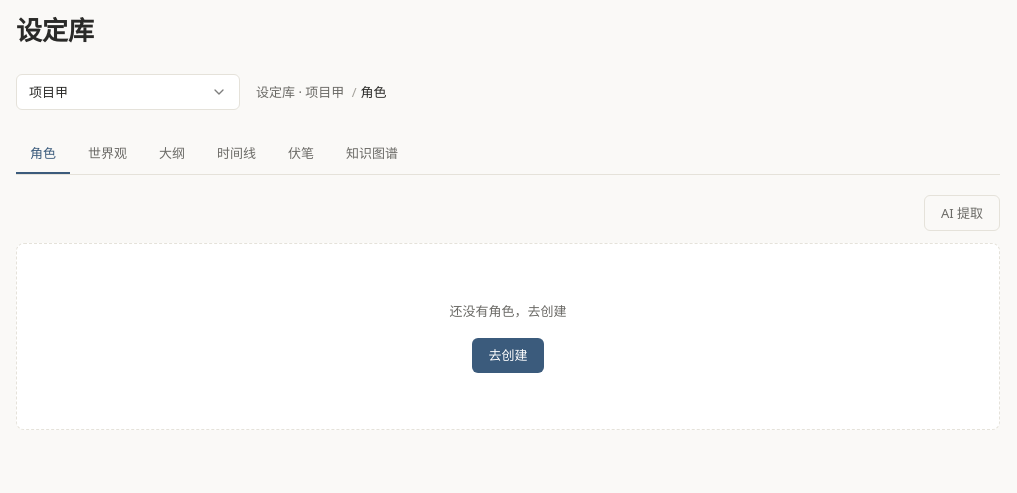
设定库页 — F43 P2 地图工作台（世界观 tab，spec §5.8-5.13/§9.5 M1-M13） › M1 世界观 tab 渲染地图工作台：挂地图的节点渲染 world-map-badge-w1；无地图节点 w1a 无徽标
Click the tab "世界观".
click(108, 154)  # box [74,134,141,174]
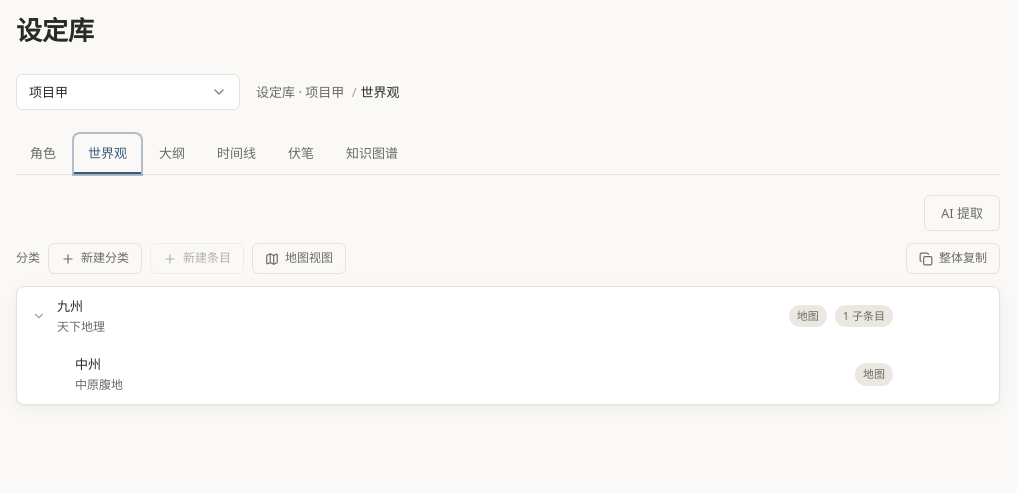
Expected: the element with test id "library-list" is shown, [16,286,1000,405]
# #389：列表页 → 点「地图视图」进工作台
Click the button with test id "map-view-entry".
click(299, 259)  # box [252,243,346,274]
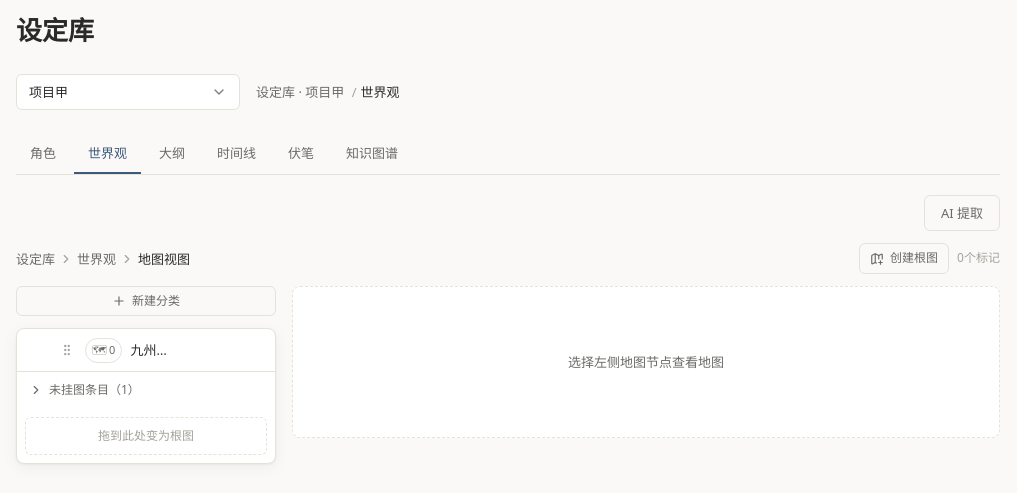
Expected: the element with test id "map-workbench" is shown, [16,243,1000,476]
Expected: the button with test id "world-map-badge-w1" is shown, [85,338,122,362]
